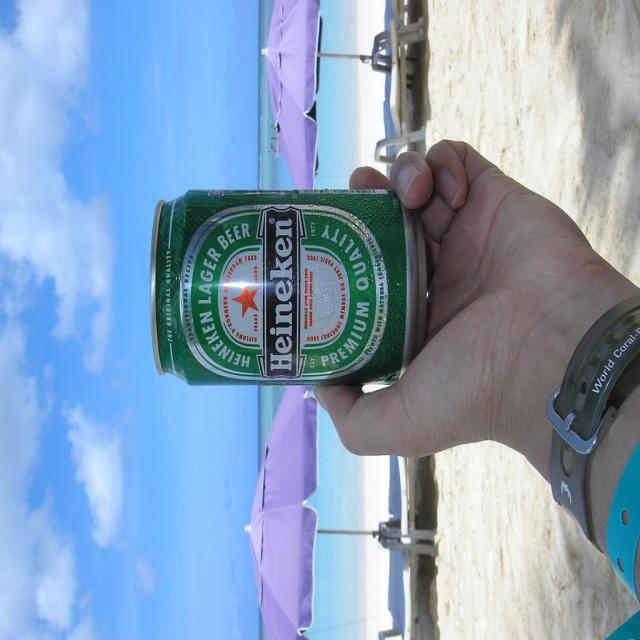heineken: (179, 205, 389, 384)
